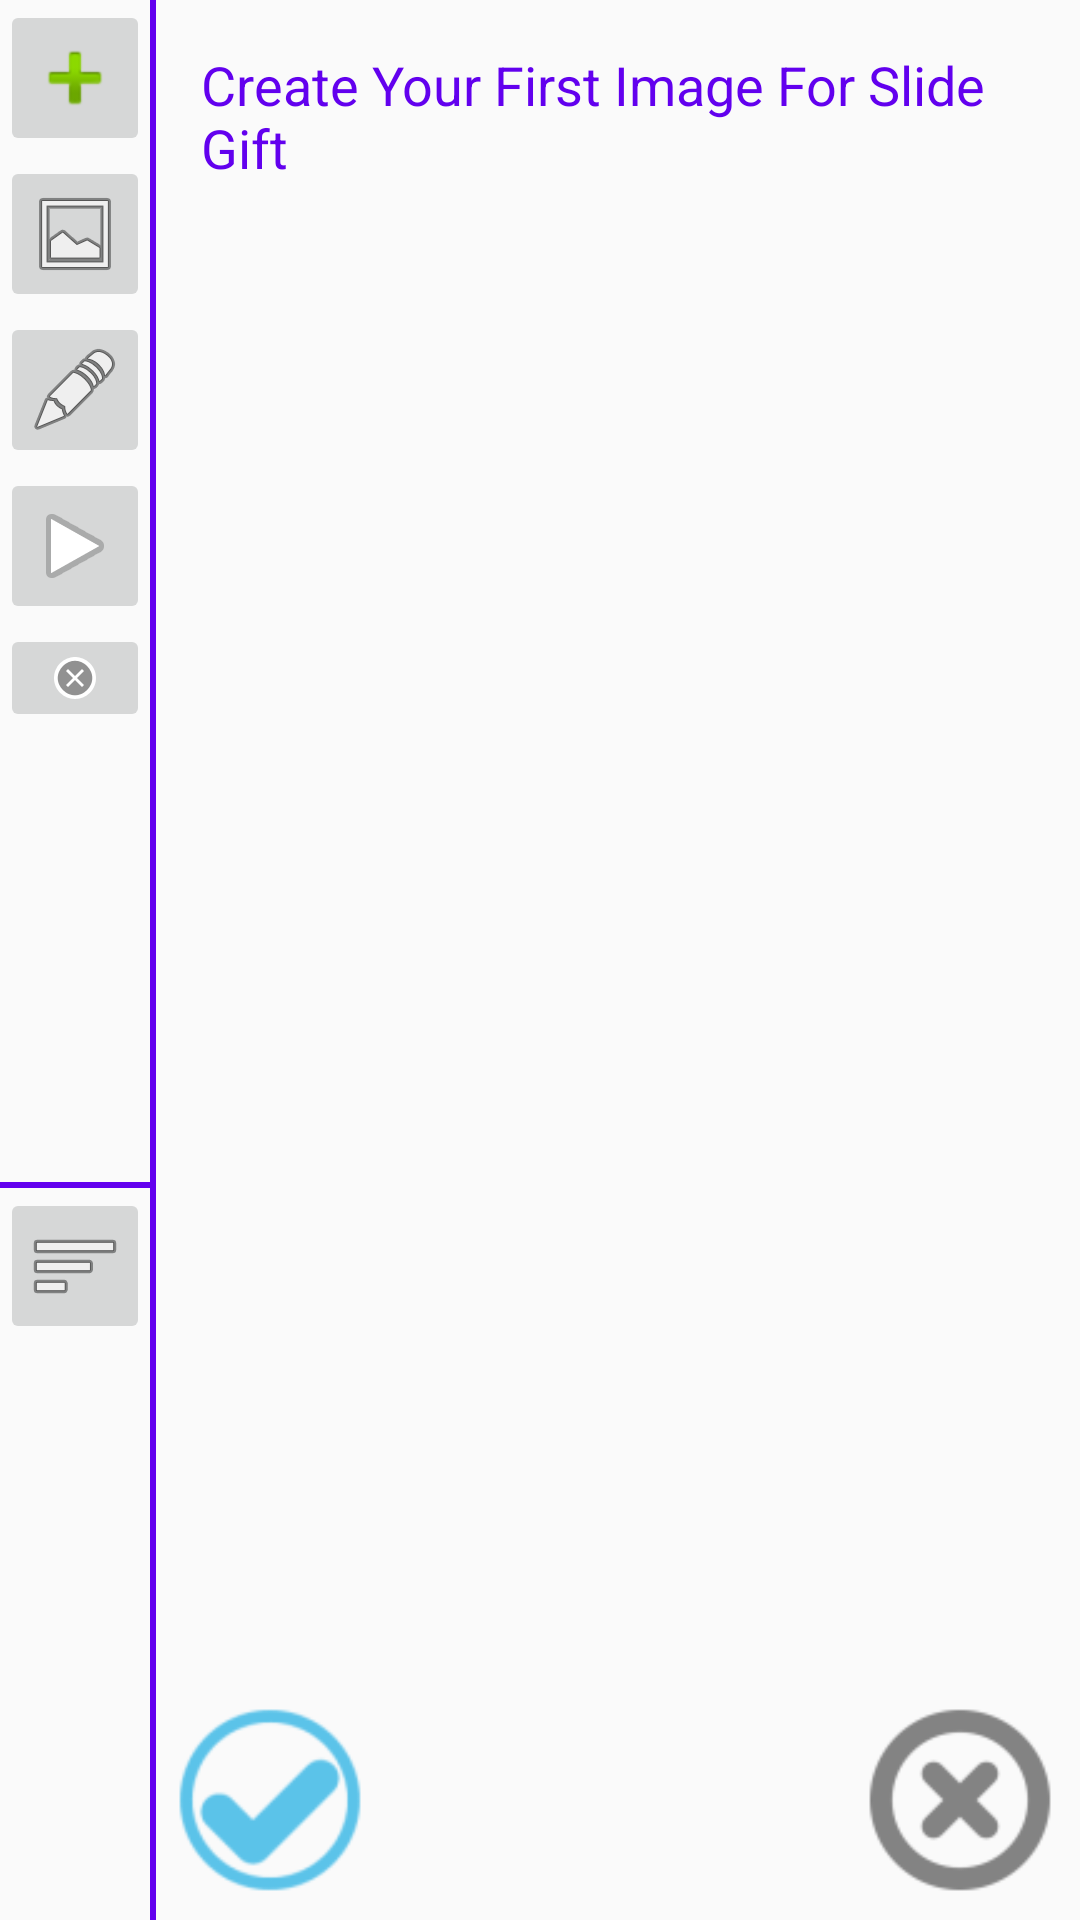

Where icons sit on this 1080×1920 app screen, as (x1, y1, x2, y2):
add: (12, 18, 138, 138)
cancel: (869, 1709, 1051, 1891)
done: (179, 1709, 361, 1891)
edit: (12, 330, 138, 450)
gallery: (12, 174, 138, 294)
play: (12, 486, 138, 606)
sort by size: (12, 1206, 138, 1326)
